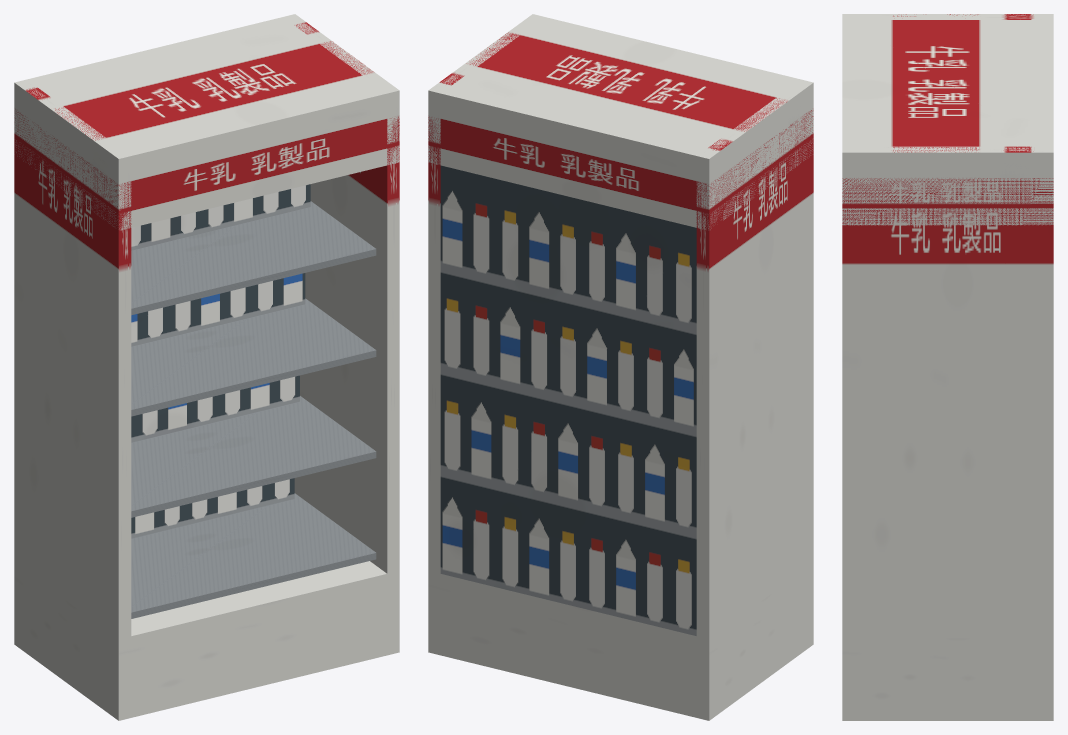
Rendered from dairycase.glb.
The picture shows the model from 3 angles, left to right: view 1: azimuth 30°, elevation 25°; view 2: azimuth 150°, elevation 25°; view 3: azimuth 270°, elevation 25°; orthographic projection.
Parts seen in each view (by area): view 1: dairycase; view 2: dairycase; view 3: dairycase.
Boxes of the visible parts, bbox=[...] form: dairycase: bbox=[14, 14, 399, 720]; dairycase: bbox=[428, 14, 813, 720]; dairycase: bbox=[842, 14, 1053, 720].
Size of the model in its own units: 0.9 by 1.72 by 0.58.
Materials: 1 (1 with a texture image).
